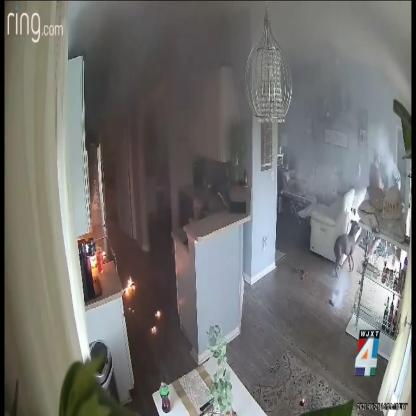fire: (122, 276, 135, 294), (155, 310, 160, 317)
